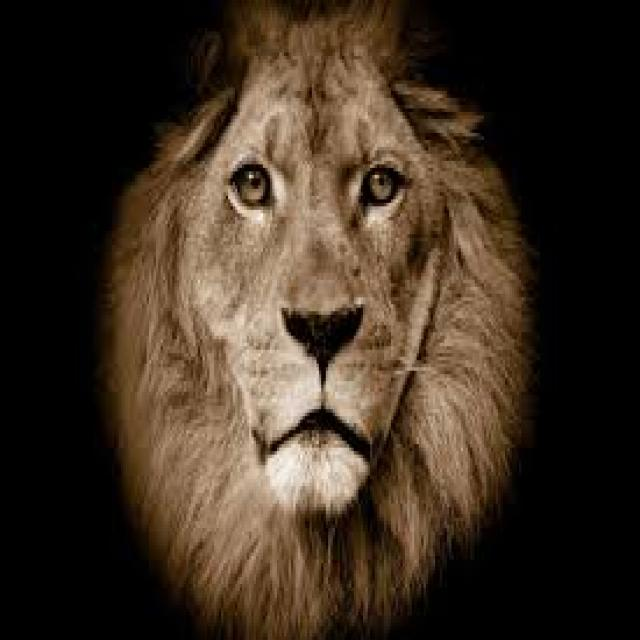Lion: (122, 9, 535, 637)
